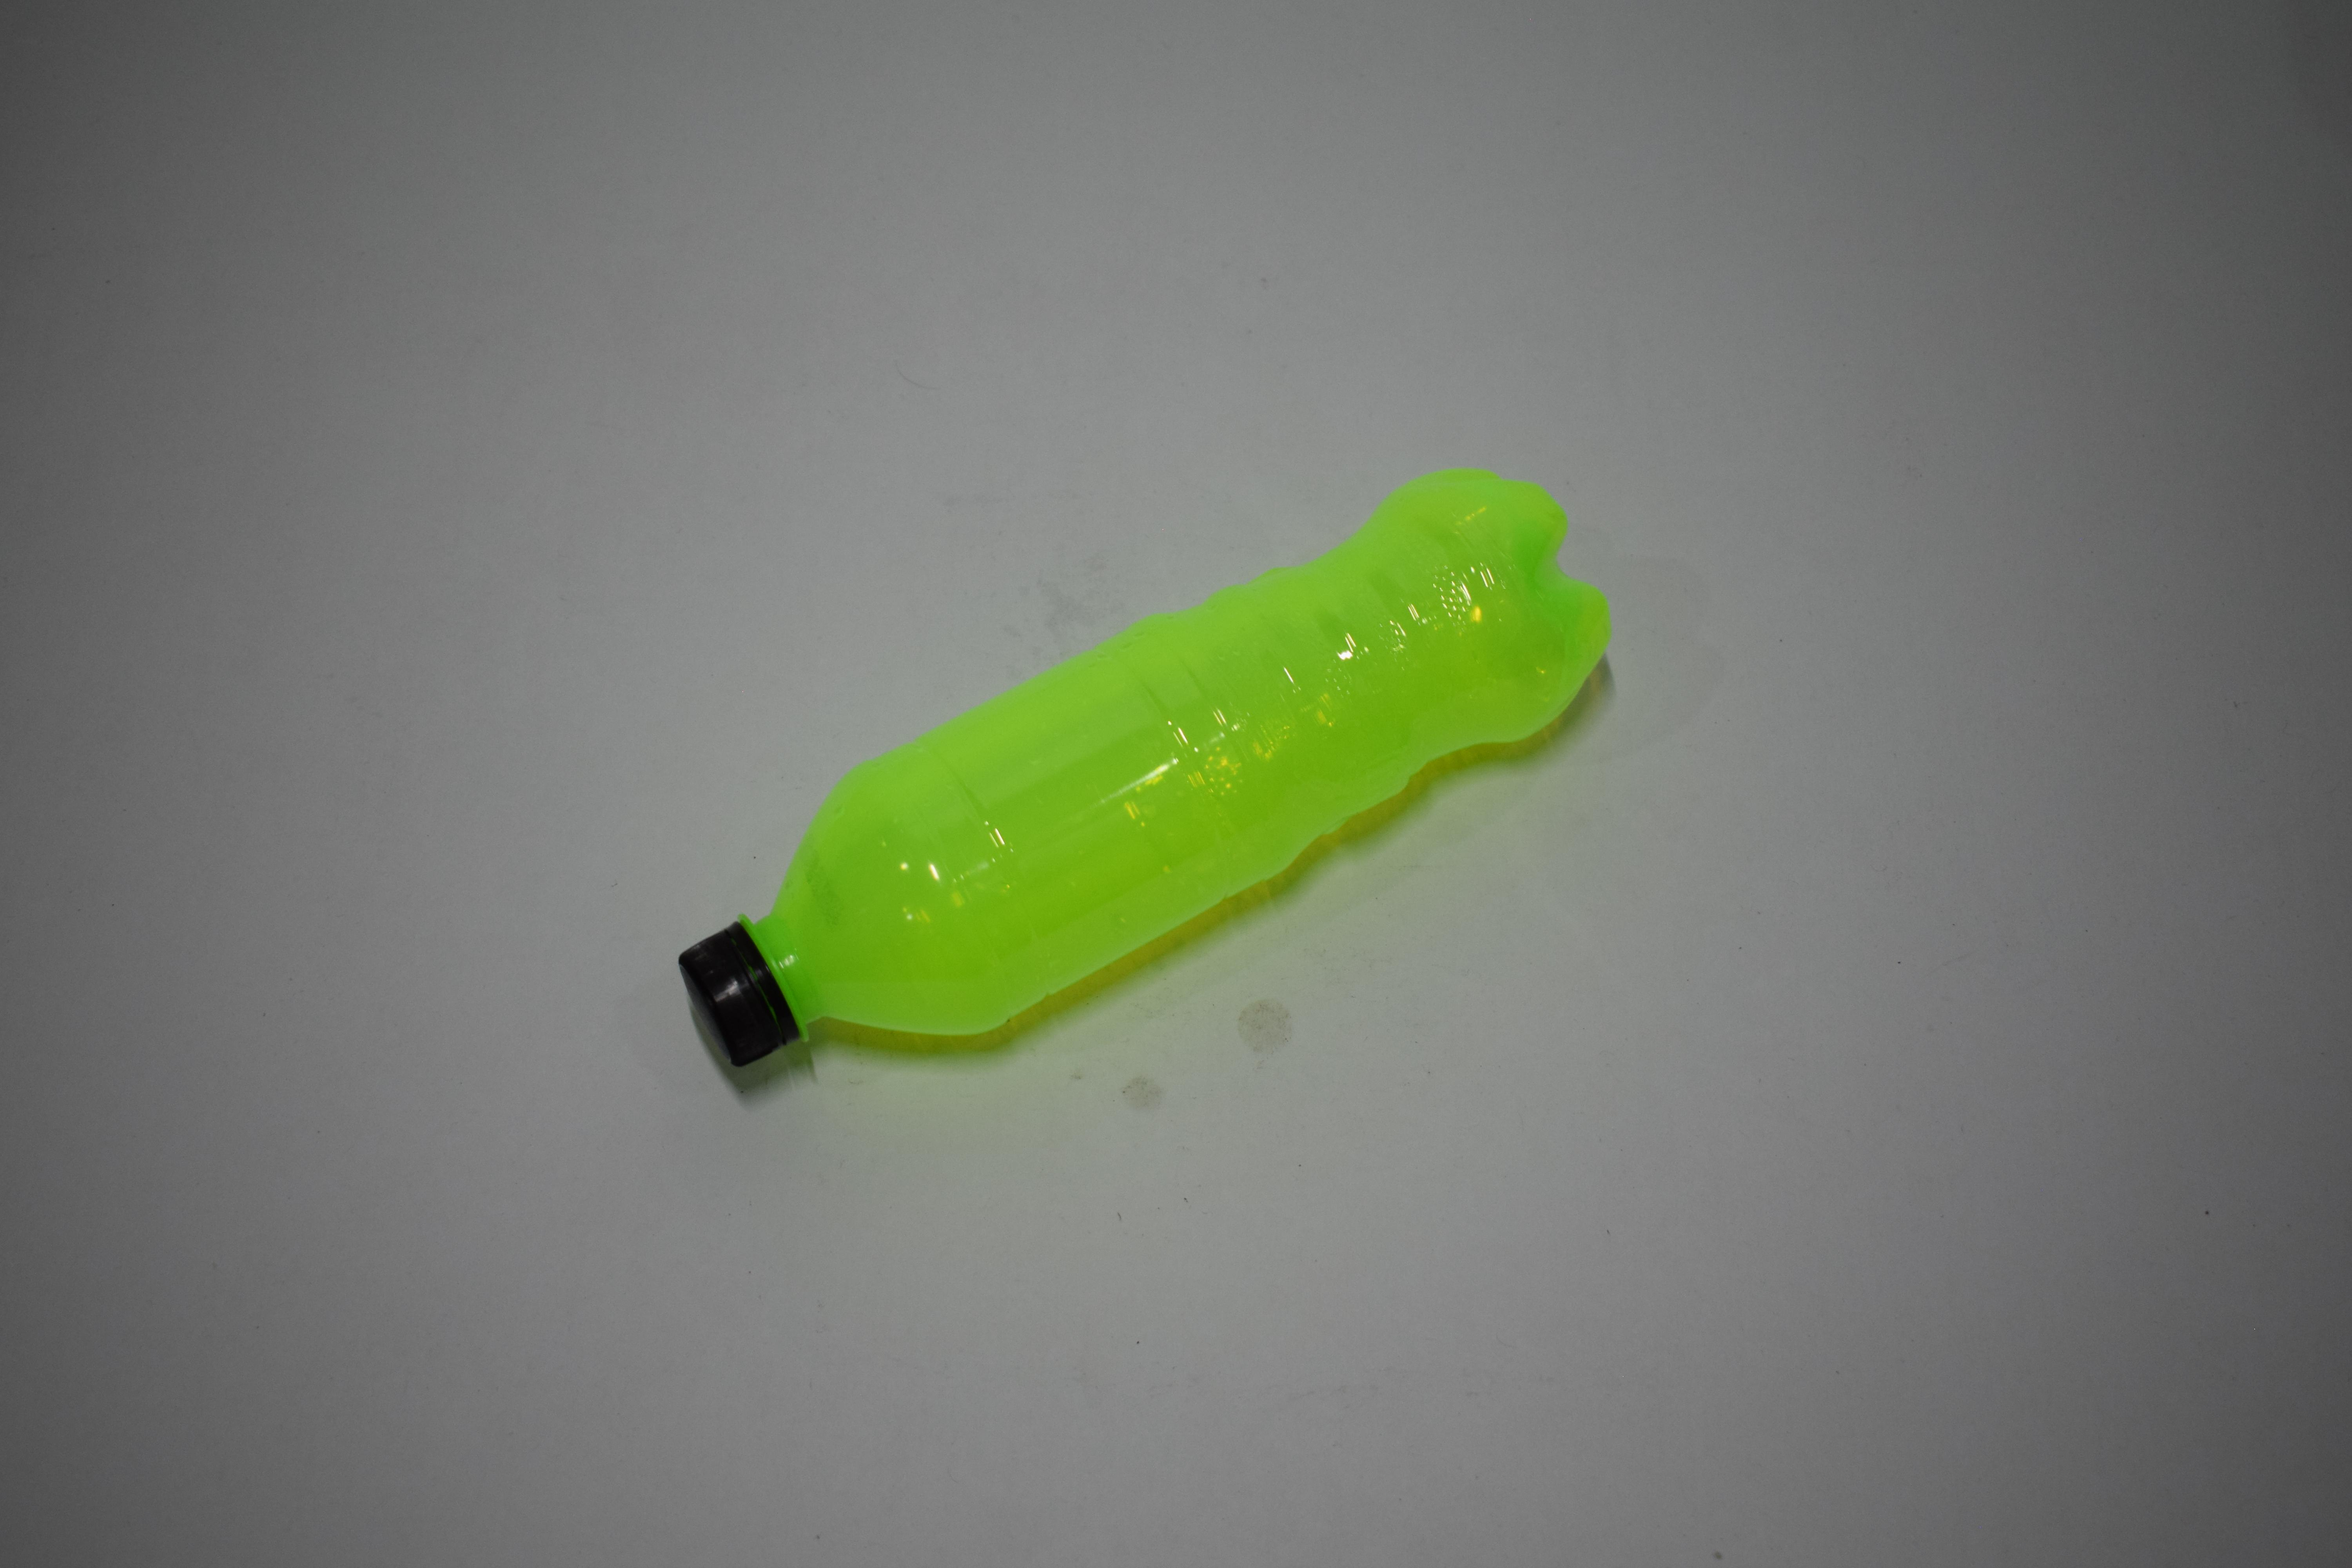bottle: (674, 462, 1617, 1085)
